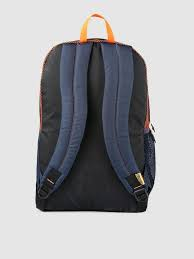backpack: (35, 11, 156, 212)
